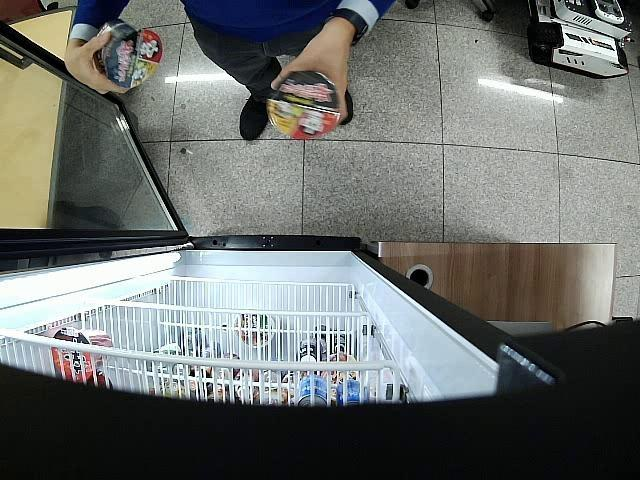08_buldak_S: (268, 70, 340, 140), (92, 20, 162, 88)
